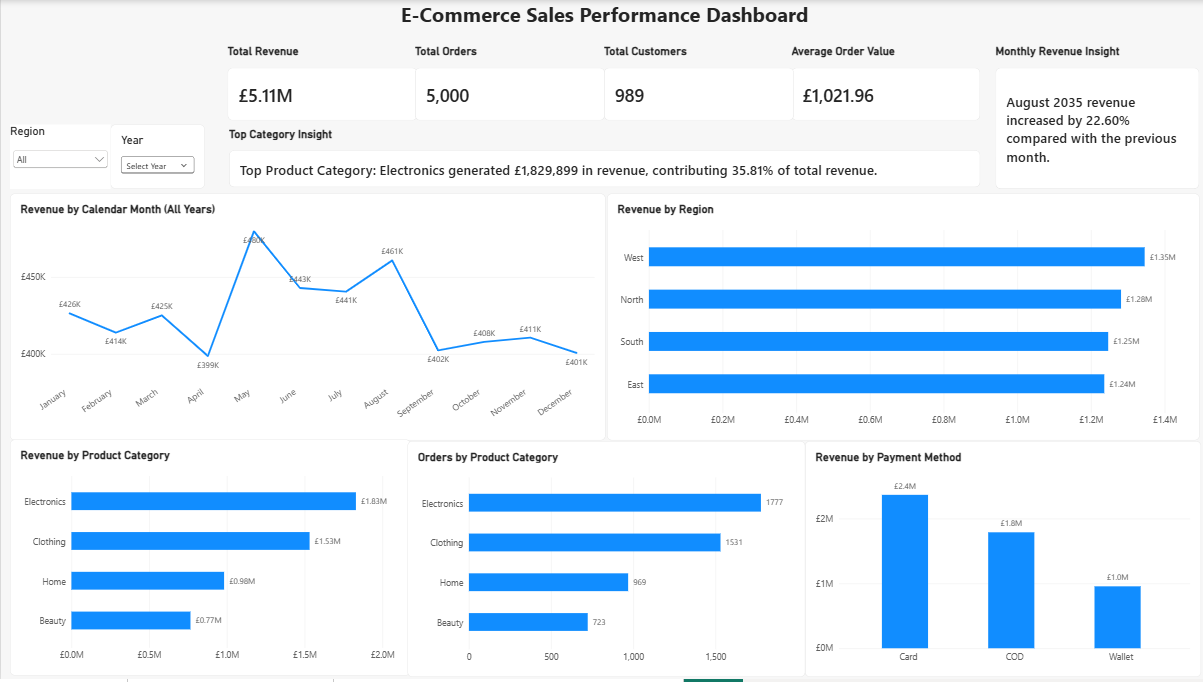

The page's visual inventory and layout, read from the dashboard file:
{"tool":"powerbi","page":{"name":"Sales Overview","canvas":[1920,1080],"ordinal":0},"visuals":[{"type":"cardVisual","title":"Total Revenue","fields":{"Data":["FactSales.Total Revenue"]},"box":[361.1,71.6,302,120],"z":0,"group":"g1"},{"type":"lineChart","title":"Revenue by Calendar Month (All Years)","fields":{"Category":["DimDate.Month Name"],"Y":["FactSales.Total Revenue"]},"box":[15,307.5,947.5,392.5],"z":0},{"type":"cardVisual","title":"Total Orders","fields":{"Data":["FactSales.Total Orders Display"]},"box":[660.4,71.6,302,120],"z":1000,"group":"g1"},{"type":"listSlicer","fields":{"Values":["DimDate.Year"]},"box":[174.3,198,150,101.7],"z":1000,"group":"g2"},{"type":"clusteredBarChart","title":"Revenue by Product Category","fields":{"Category":["FactSales.product_category"],"Y":["FactSales.Total Revenue"]},"box":[15,700,637.5,375],"z":1000},{"type":"cardVisual","title":"Average Order Value","fields":{"Data":["CustomerSegments.Average Order Value Display"]},"box":[1259.1,71.6,300,120],"z":2000,"group":"g1"},{"type":"clusteredBarChart","title":"Revenue by Region","fields":{"Category":["FactSales.region"],"Y":["FactSales.Total Revenue"]},"box":[965,307.5,942.5,392.5],"z":2000},{"type":"textbox","box":[0,0,1920,72],"z":3000},{"type":"cardVisual","title":"Total Customers","fields":{"Data":["FactSales.Total Customers"]},"box":[959.8,71.6,302,120],"z":3000,"group":"g1"},{"type":"clusteredColumnChart","title":"Revenue by Payment Method","fields":{"Category":["FactSales.payment_method"],"Y":["FactSales.Total Revenue"]},"box":[1280,700.8,630,375],"z":4000},{"type":"clusteredBarChart","title":"Orders by Product Category","fields":{"Category":["FactSales.product_category"],"Y":["FactSales.Total Orders"]},"box":[647.5,700.8,632.5,375],"z":5000},{"type":"cardVisual","title":"Top Category Insight","fields":{"Data":["FactSales.Top Category Insight"]},"box":[362.2,202.8,1195.6,95.6],"z":6000},{"type":"cardVisual","title":"Monthly Revenue Insight","fields":{"Data":["CustomerSegments.Monthly Revenue Insight"]},"box":[1581.9,71.6,324.5,229],"z":7000},{"type":"slicer","title":"Region","fields":{"Values":["FactSales.region"]},"box":[14.3,198,160,102.5],"z":7000,"group":"g2"},{"type":"group","id":"g1","title":"Group 1","box":[361.1,71.6,1197.7,119.3],"z":8000},{"type":"group","id":"g2","title":"Group 2","box":[14.3,198,310.2,102.6],"z":9000}]}

Visuals, with their boxes in screenshot pixels (x1, y1, x2, y2), scaled from the page's 1920x1080 canvas onto the 1203x682 screenshot:
"Total Revenue" cardVisual: [left=226, top=45, right=415, bottom=121]
"Revenue by Calendar Month (All Years)" lineChart: [left=9, top=194, right=603, bottom=442]
"Total Orders" cardVisual: [left=414, top=45, right=603, bottom=121]
listSlicer - DimDate.Year: [left=109, top=125, right=203, bottom=189]
"Revenue by Product Category" clusteredBarChart: [left=9, top=442, right=409, bottom=679]
"Average Order Value" cardVisual: [left=789, top=45, right=977, bottom=121]
"Revenue by Region" clusteredBarChart: [left=605, top=194, right=1195, bottom=442]
textbox: [left=0, top=0, right=1202, bottom=45]
"Total Customers" cardVisual: [left=601, top=45, right=791, bottom=121]
"Revenue by Payment Method" clusteredColumnChart: [left=802, top=443, right=1197, bottom=679]
"Orders by Product Category" clusteredBarChart: [left=406, top=443, right=802, bottom=679]
"Top Category Insight" cardVisual: [left=227, top=128, right=976, bottom=188]
"Monthly Revenue Insight" cardVisual: [left=991, top=45, right=1194, bottom=190]
"Region" slicer: [left=9, top=125, right=109, bottom=190]
"Group 1" group: [left=226, top=45, right=977, bottom=121]
"Group 2" group: [left=9, top=125, right=203, bottom=190]
